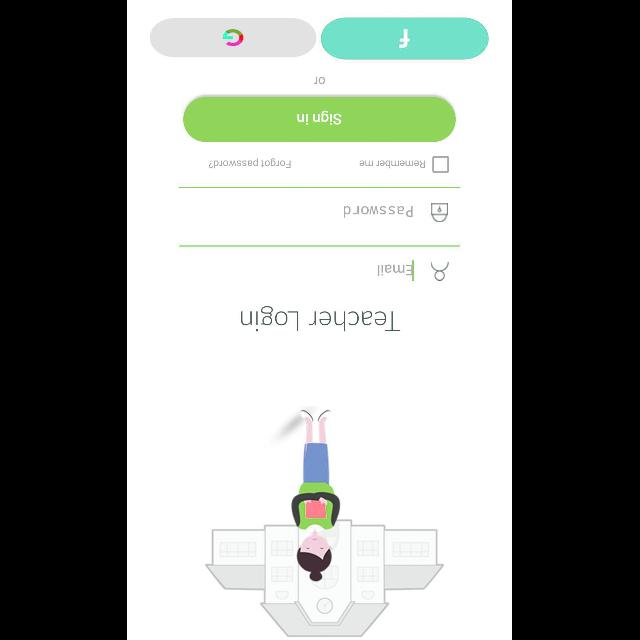checkbox: (434, 156, 450, 172)
icon: (431, 262, 449, 280), (432, 204, 448, 222)
image: (204, 408, 446, 638)
input: (180, 245, 460, 281), (180, 187, 460, 223)
text: (242, 306, 401, 332), (209, 158, 291, 168), (360, 160, 426, 168), (314, 77, 326, 85)
textbutton: (184, 98, 456, 142), (321, 18, 489, 60), (150, 18, 318, 56)
